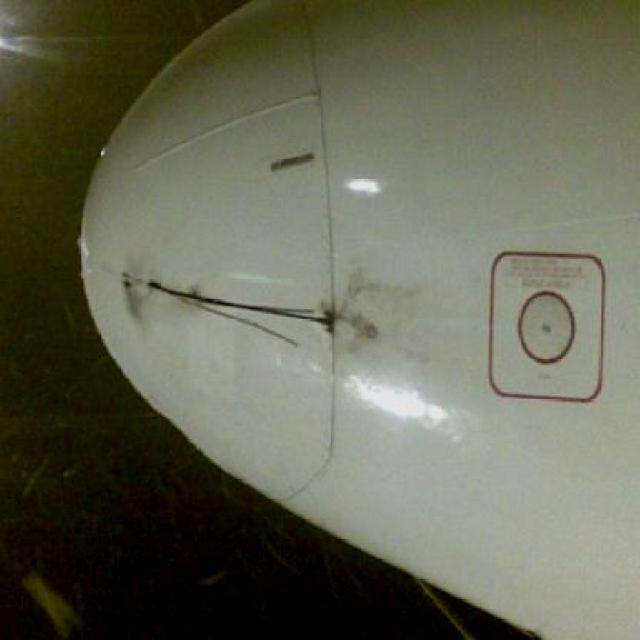crack: (142, 279, 331, 327)
